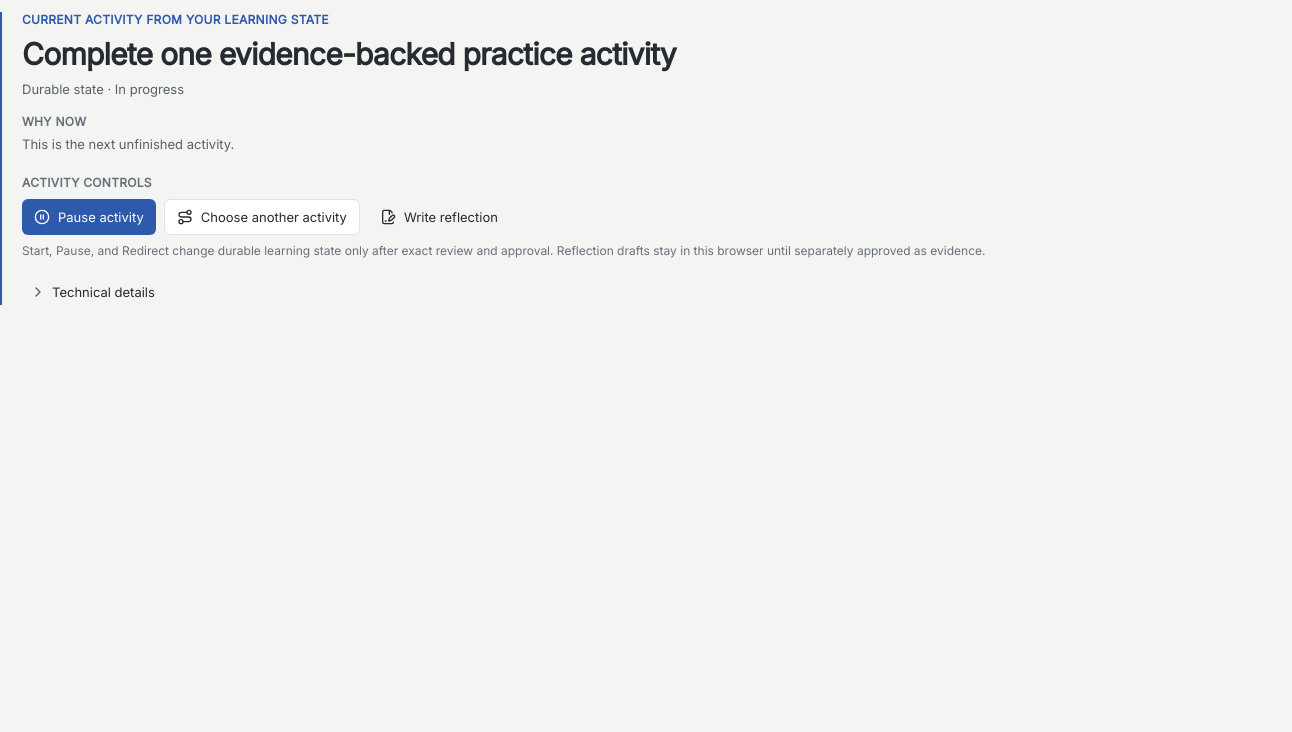
it: StudyState focused learning journey › reveals Redirect targets progressively and reviews the exact atomic source and target
Click the button "Choose another activity" at (262, 217), box [164,199,360,235]
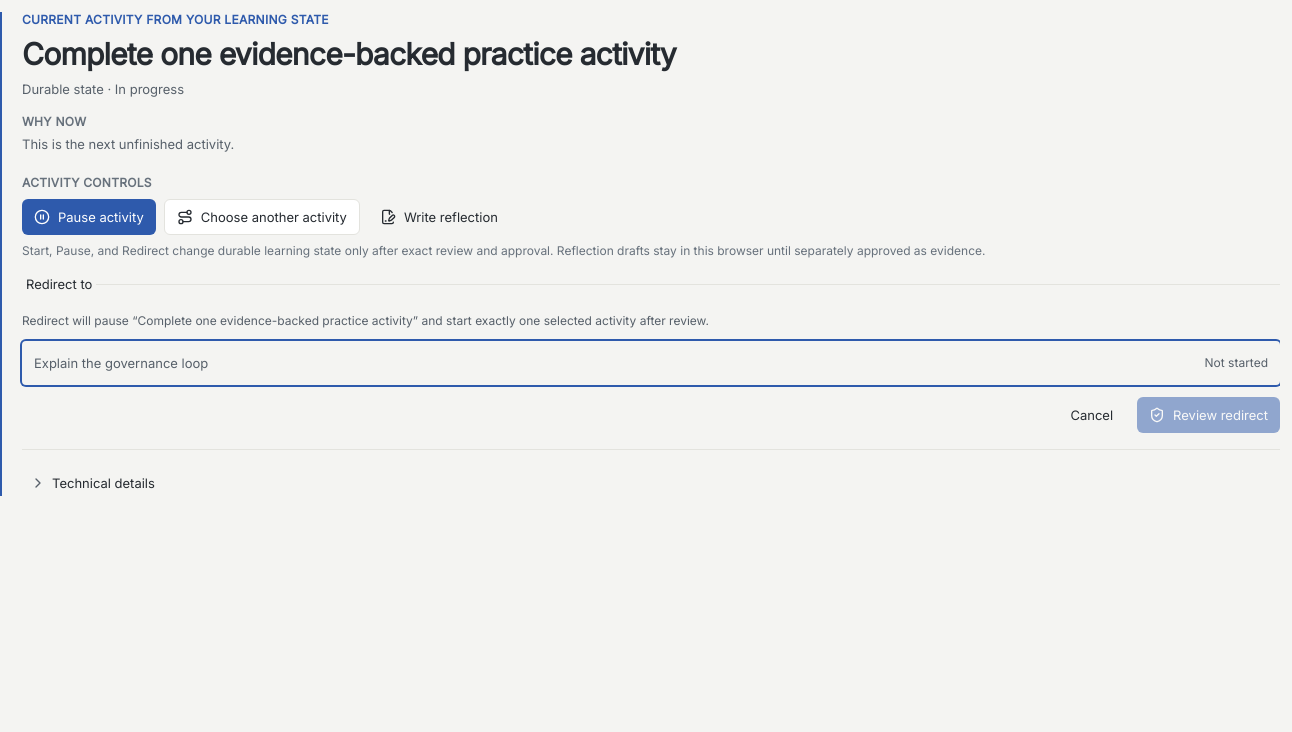
Click the button with test id "study-redirect-target-explain-back" at (121, 363), box [22,341,1280,385]
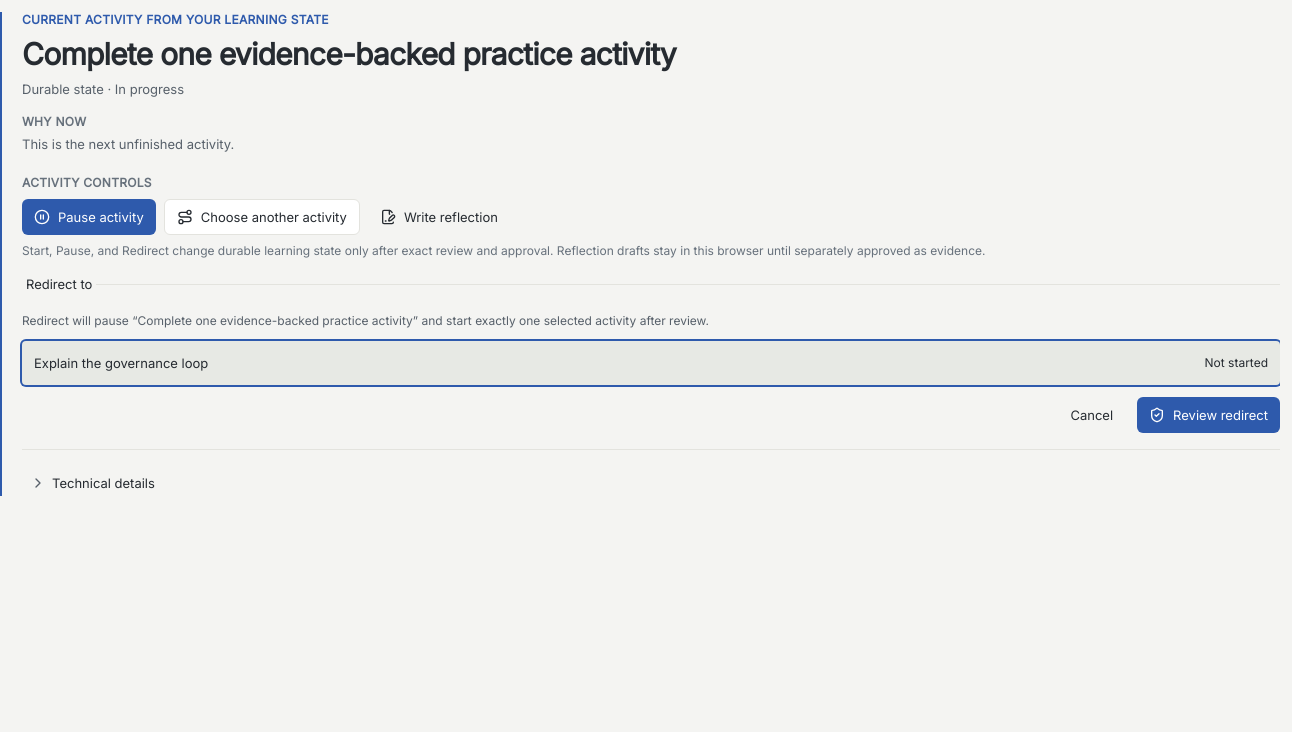
Expected: the button with test id "study-redirect-target-explain-back" is pressed, [22,341,1280,385]
Click the button "Review redirect" at (1209, 415), box [1137,397,1280,433]
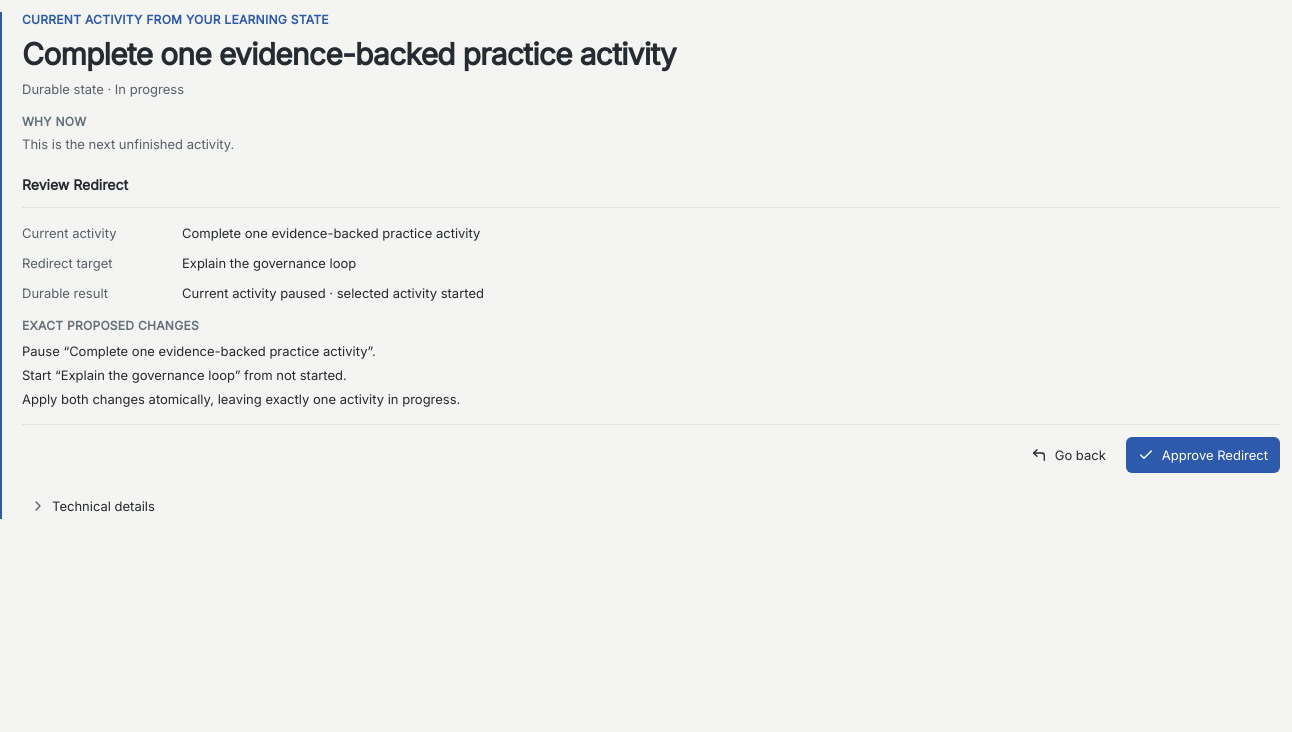
Expected: the heading "Review Redirect" is shown, [22,176,128,193]
Expected: the text with test id "study-review-activity" reads "Complete one evidence-backed practice activity", [182,225,480,241]
Expected: the text with test id "study-review-target" reads "Explain the governance loop", [182,255,356,271]
